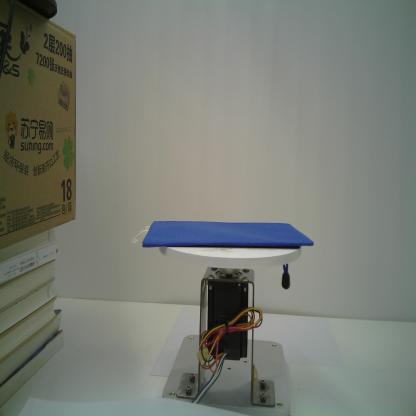Stationery: (142, 221, 314, 290)
